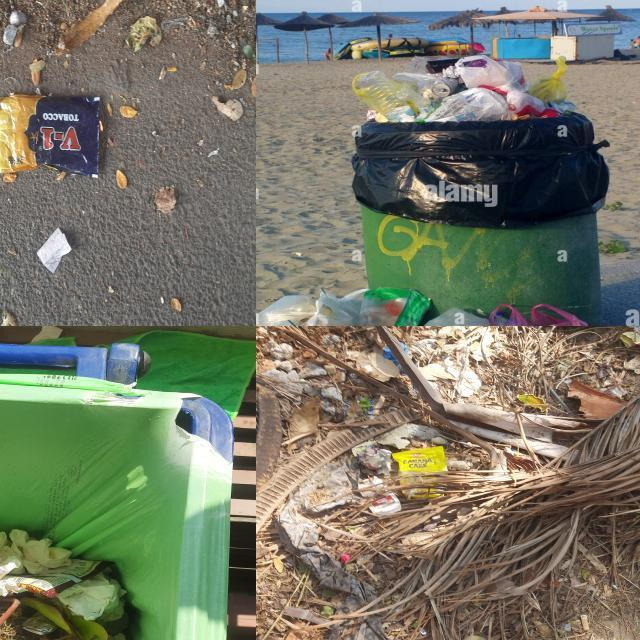Garbage: (256, 326, 640, 640), (352, 56, 575, 123), (256, 288, 589, 326)
Metal: (22, 613, 57, 635)
Plastic_Bag: (256, 295, 354, 326), (426, 87, 512, 121), (358, 288, 430, 326), (456, 55, 527, 90), (490, 304, 588, 326), (529, 56, 568, 103), (393, 73, 436, 114), (506, 90, 547, 116), (426, 59, 460, 74)
Plastic_bottle: (352, 70, 419, 122)
Plastic_wraper: (0, 95, 99, 177), (6, 559, 111, 597), (393, 446, 448, 485), (353, 444, 391, 474), (401, 487, 443, 500), (412, 622, 427, 635)
Tetrapack: (368, 492, 401, 517), (358, 476, 384, 497)
can: (430, 77, 458, 100)
